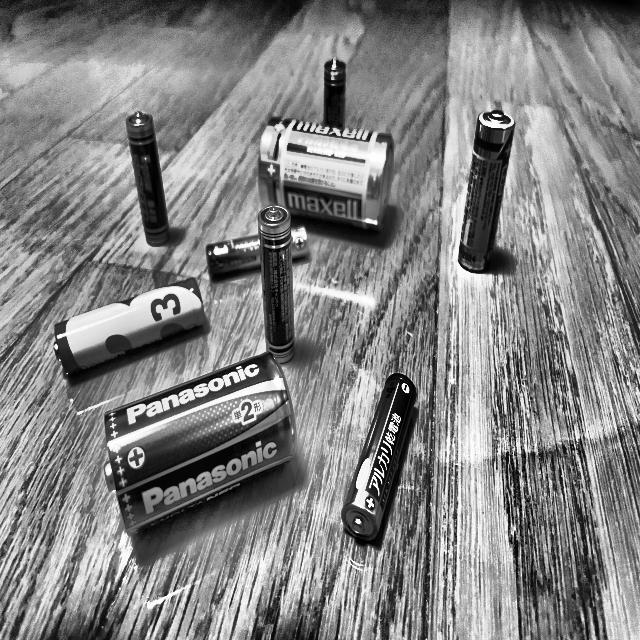drycell: (49, 273, 212, 382), (122, 105, 177, 249)
